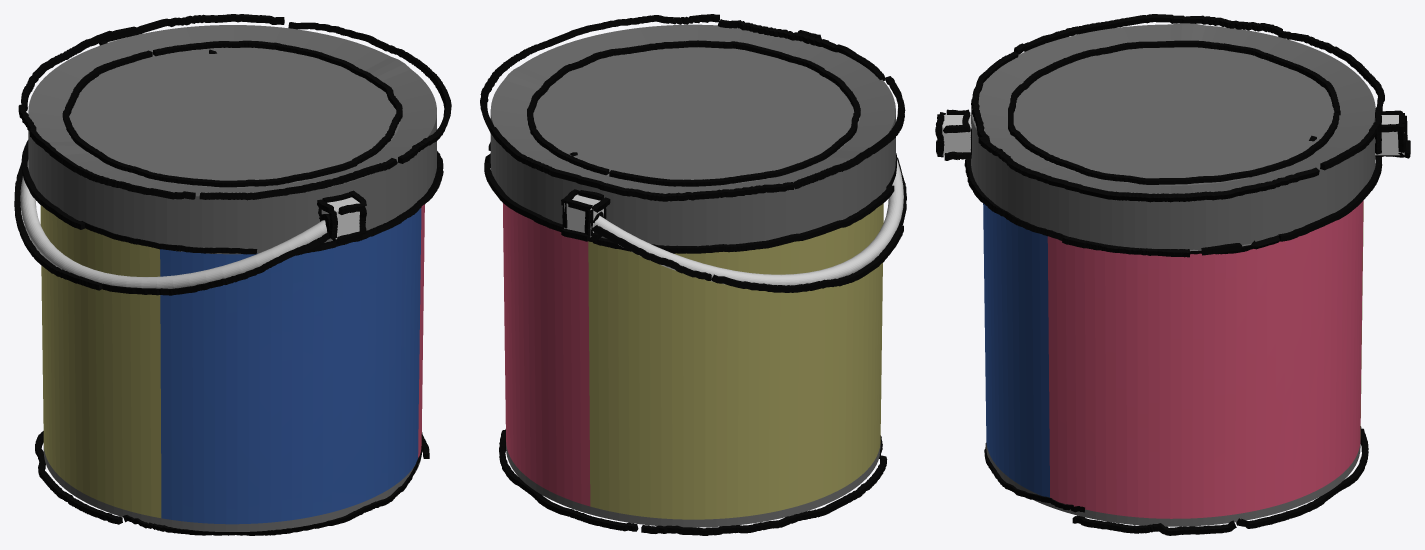
File: painbucket.fbx
The picture shows the model from 3 angles, left to right: view 1: azimuth 30°, elevation 25°; view 2: azimuth 150°, elevation 25°; view 3: azimuth 270°, elevation 25°; orthographic projection.
Visible parts, largest first — view 1: bucket, GP_Layer, handle, rotaty; view 2: bucket, GP_Layer, handle, rotaty; view 3: bucket, GP_Layer, rotaty.
Part boxes in pixels (bbox=[...]): bucket: bbox=[28, 25, 436, 531]; GP_Layer: bbox=[14, 14, 451, 535]; handle: bbox=[20, 160, 327, 288]; rotaty: bbox=[107, 37, 359, 239]; bucket: bbox=[490, 24, 895, 527]; GP_Layer: bbox=[480, 14, 906, 535]; handle: bbox=[594, 159, 903, 285]; rotaty: bbox=[564, 194, 603, 237]; bucket: bbox=[971, 23, 1375, 526]; GP_Layer: bbox=[935, 14, 1410, 535]; rotaty: bbox=[942, 115, 1404, 155].
Bounding box in the file's own units: 224 × 203 × 249.
